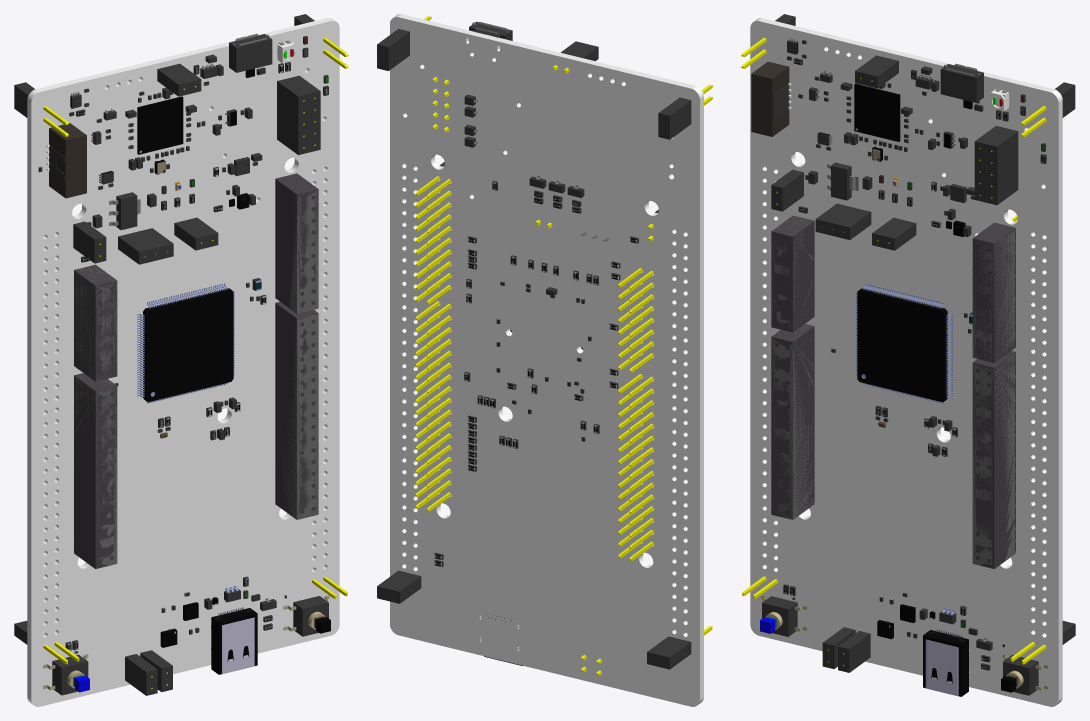
File: nucleo-144.glb
The picture shows the model from 3 angles, left to right: view 1: azimuth 30°, elevation 25°; view 2: azimuth 150°, elevation 25°; view 3: azimuth 330°, elevation 25°; orthographic projection.
Bounding box in the file's own units: 70 × 135 × 18.57.
